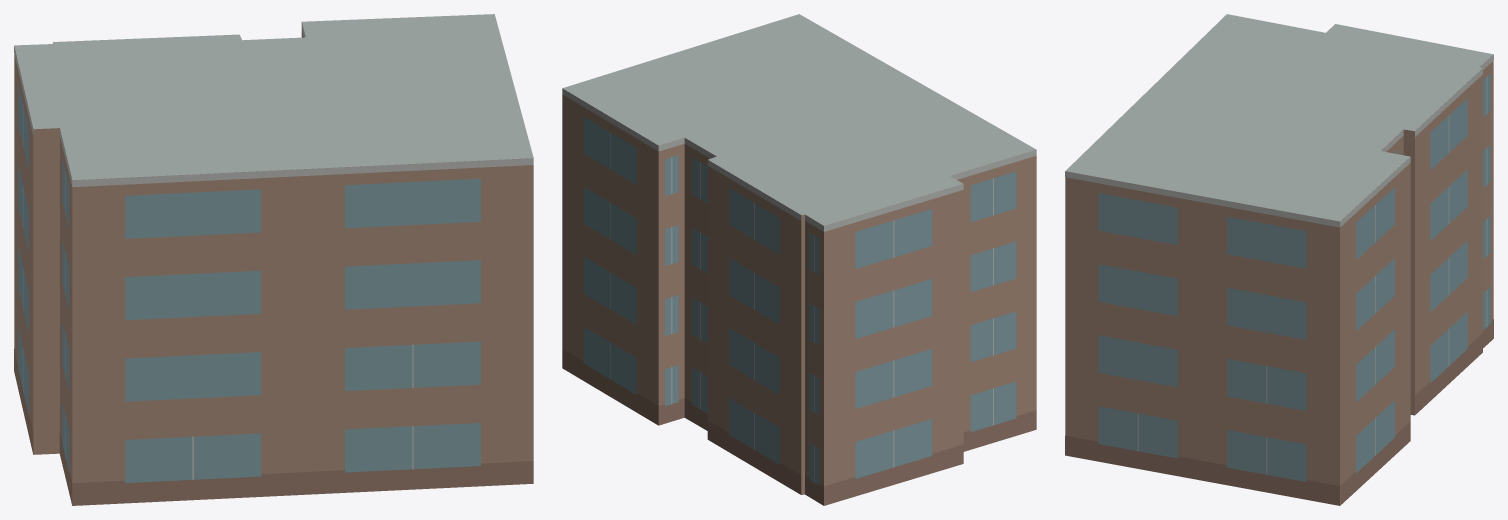
File: survey-upis-32956262.glb
3 renders of one model, left to right at view 1: azimuth 30°, elevation 25°; view 2: azimuth 150°, elevation 25°; view 3: azimuth 270°, elevation 25°, orthographic. The views are drawn at different scales.
Visible parts, largest first — view 1: survey-upis-32956262.tmp; view 2: survey-upis-32956262.tmp; view 3: survey-upis-32956262.tmp.
Boxes of the visible parts, x1,y1,x2,y2 form: survey-upis-32956262.tmp: [14, 14, 533, 505]; survey-upis-32956262.tmp: [562, 14, 1036, 505]; survey-upis-32956262.tmp: [1065, 14, 1493, 505].
Size of the model in its own units: 17.93 by 11.45 by 15.65.
